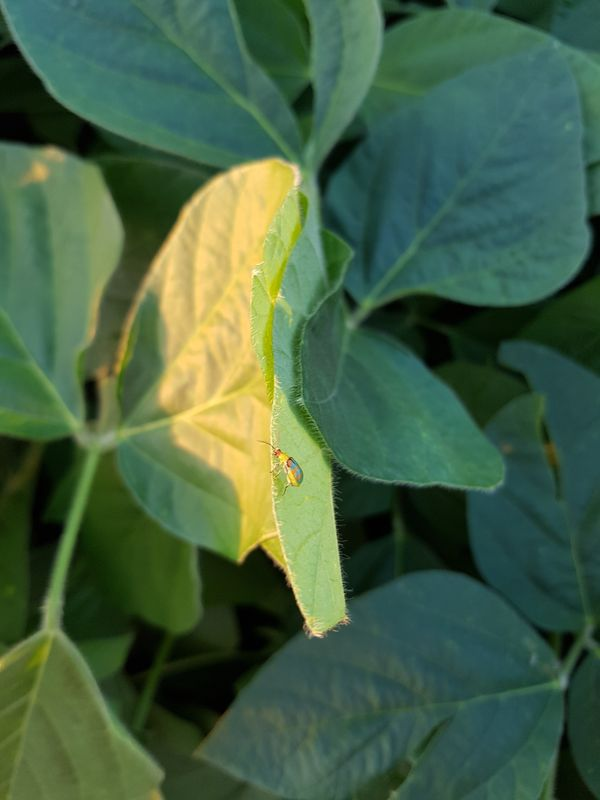Diabrotica_speciosa: (249, 429, 322, 500)
